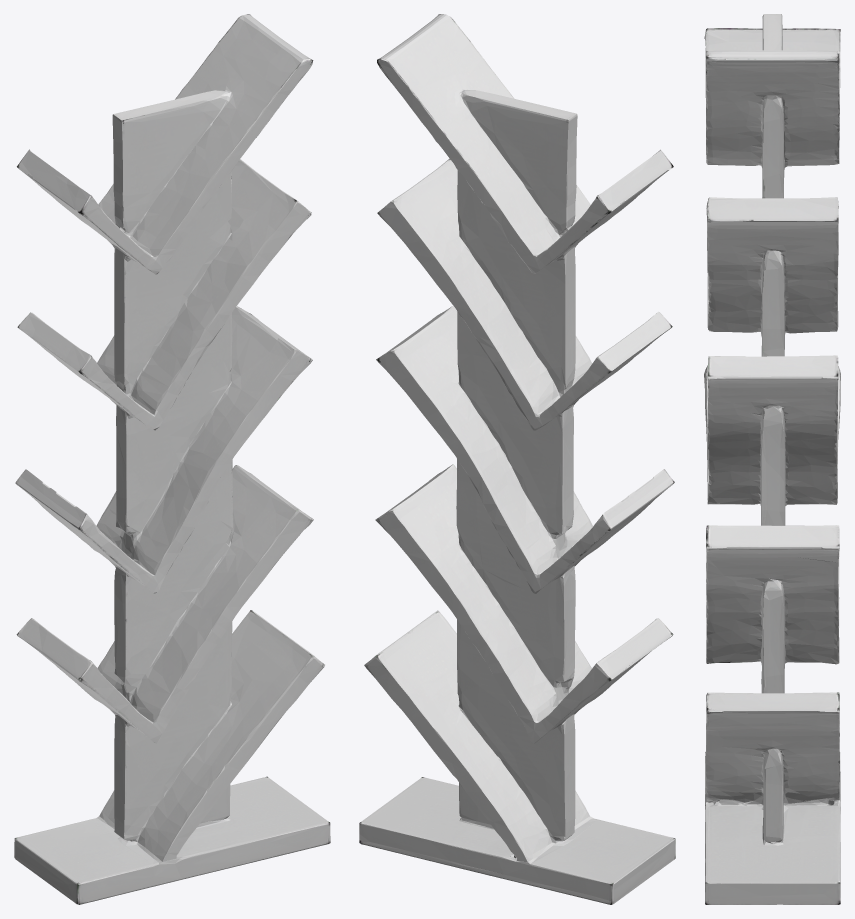
Rendered from book.glb.
3 renders of one model, left to right at view 1: azimuth 30°, elevation 25°; view 2: azimuth 150°, elevation 25°; view 3: azimuth 270°, elevation 25°, orthographic. The views are drawn at different scales.
Visible parts, largest first — view 1: world; view 2: world; view 3: world.
Part boxes in pixels (box(x1,y1,x2,y2)): world: box(14, 14, 330, 904); world: box(359, 14, 675, 904); world: box(704, 14, 840, 904).
Bounding box in the file's own units: 0.3362 × 1 × 0.1476.
Materials: 1 (1 with a texture image).
